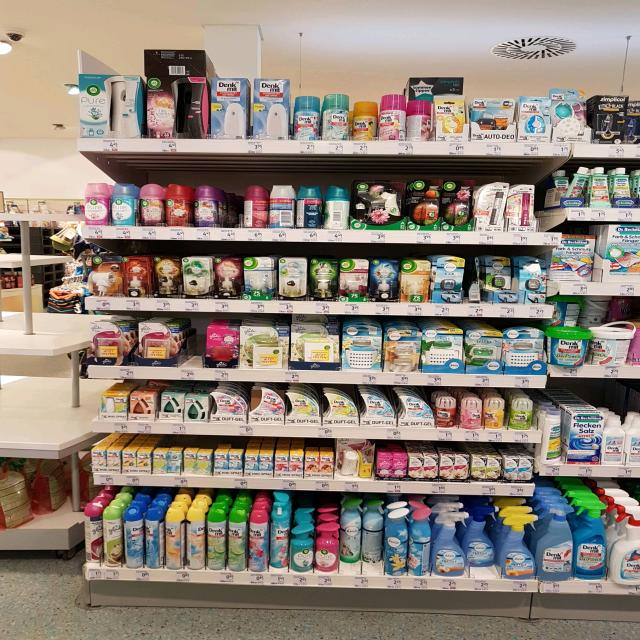unorganised: (466, 505, 496, 567), (362, 497, 386, 563), (341, 497, 362, 564), (541, 407, 565, 461), (565, 166, 588, 202)
